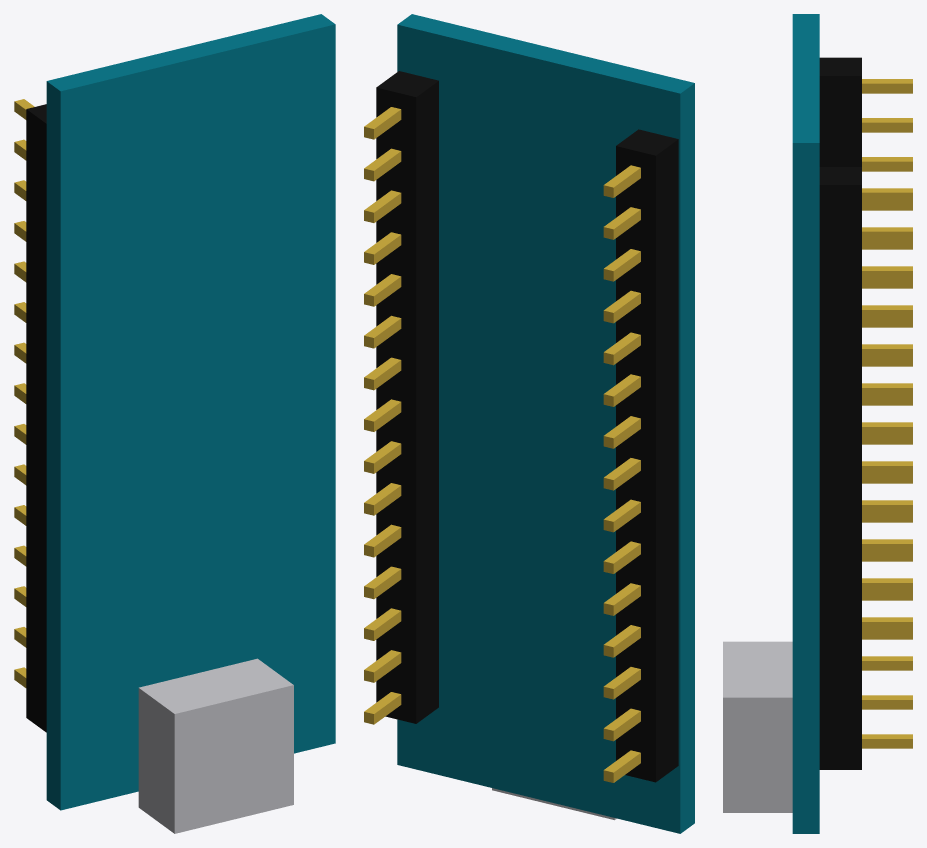
The model's file is mod-nano.glb.
3 renders of one model, left to right at view 1: azimuth 30°, elevation 25°; view 2: azimuth 150°, elevation 25°; view 3: azimuth 270°, elevation 25°, orthographic. The views are drawn at different scales.
Parts seen in each view (by area): view 1: PCB-ARDUINO, MET-PORT, HEADER; view 2: PCB-ARDUINO, HEADER, MET-PIN (×30); view 3: HEADER, PCB-ARDUINO, MET-PIN (×30), MET-PORT.
Boxes of the visible parts, x1,y1,x2,y2 form: PCB-ARDUINO: [46, 14, 335, 810]; MET-PORT: [138, 658, 293, 833]; HEADER: [26, 104, 46, 732]; PCB-ARDUINO: [397, 14, 694, 833]; HEADER: [376, 71, 678, 782]; MET-PIN (×30): [364, 107, 640, 782]; HEADER: [819, 57, 861, 769]; PCB-ARDUINO: [792, 14, 819, 833]; MET-PIN (×30): [862, 79, 912, 748]; MET-PORT: [723, 641, 792, 812].
Size of the model in its own units: 18 by 46 by 11.2.
